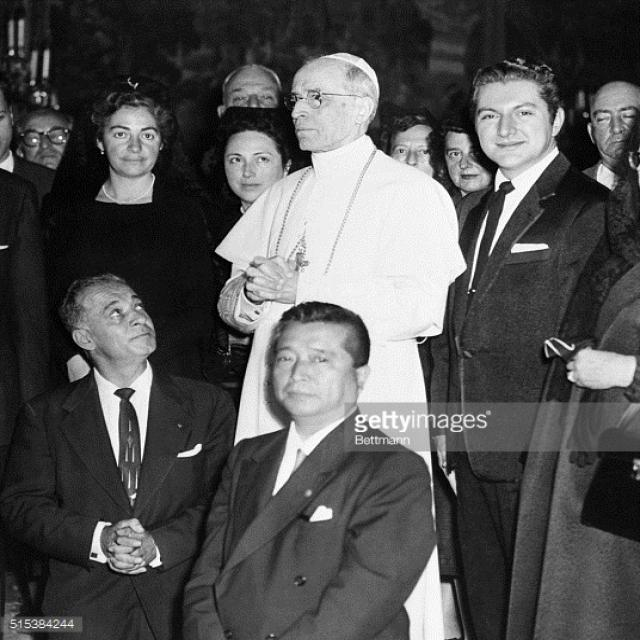body: (211, 48, 473, 639), (429, 56, 615, 640), (5, 271, 240, 639), (185, 299, 437, 640), (506, 141, 640, 640), (44, 70, 226, 386), (203, 104, 304, 413), (0, 79, 69, 495), (386, 89, 633, 198), (218, 65, 286, 115)
